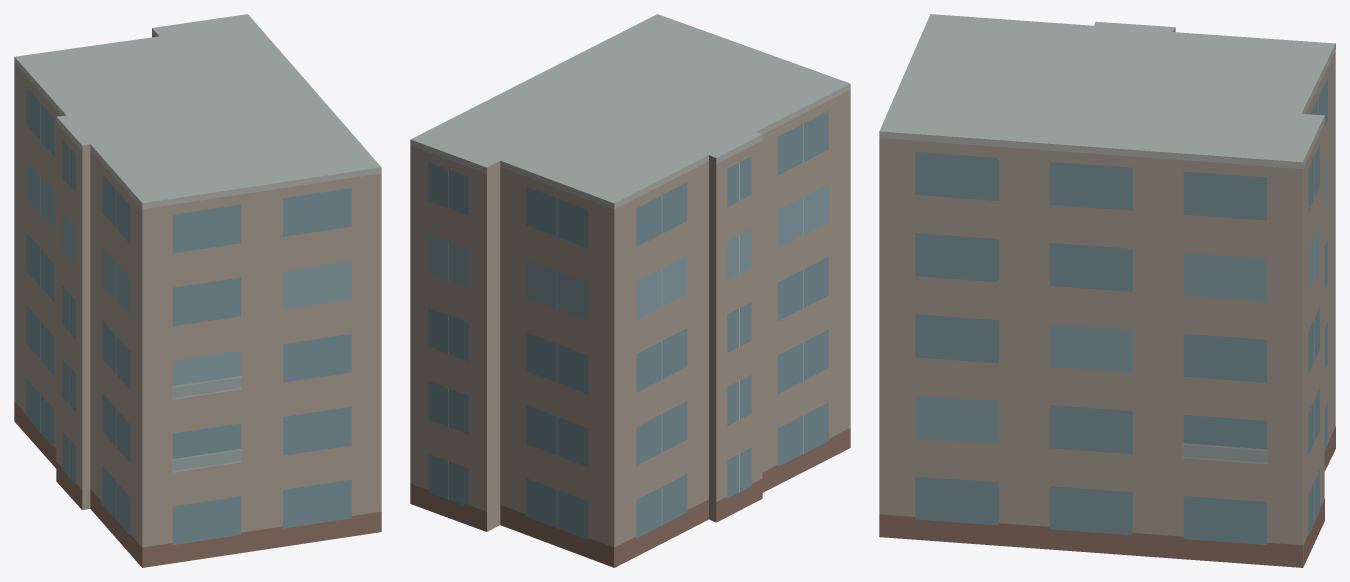
The model's file is survey-upis-32961495.glb.
3 views of the same model, side by side, from view 1: azimuth 30°, elevation 25°; view 2: azimuth 150°, elevation 25°; view 3: azimuth 270°, elevation 25° (orthographic). The views are drawn at different scales.
Parts seen in each view (by area): view 1: survey-upis-32961495.tmp; view 2: survey-upis-32961495.tmp; view 3: survey-upis-32961495.tmp.
Boxes of the visible parts, left/top/right/bottom form: survey-upis-32961495.tmp: left=14, top=14, right=381, bottom=567; survey-upis-32961495.tmp: left=410, top=14, right=850, bottom=567; survey-upis-32961495.tmp: left=879, top=14, right=1335, bottom=567.
Bounding box in the file's own units: 11.53 × 14.7 × 15.
